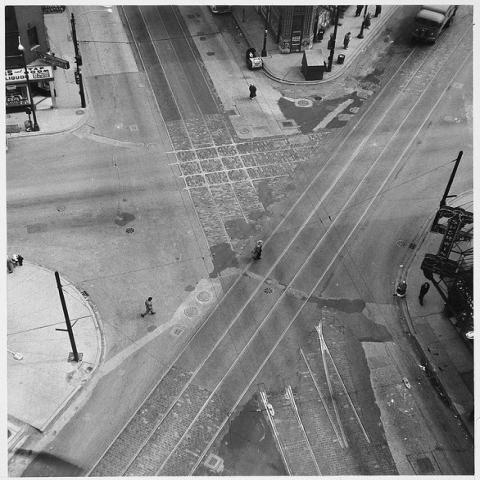truck: (414, 5, 458, 45)
